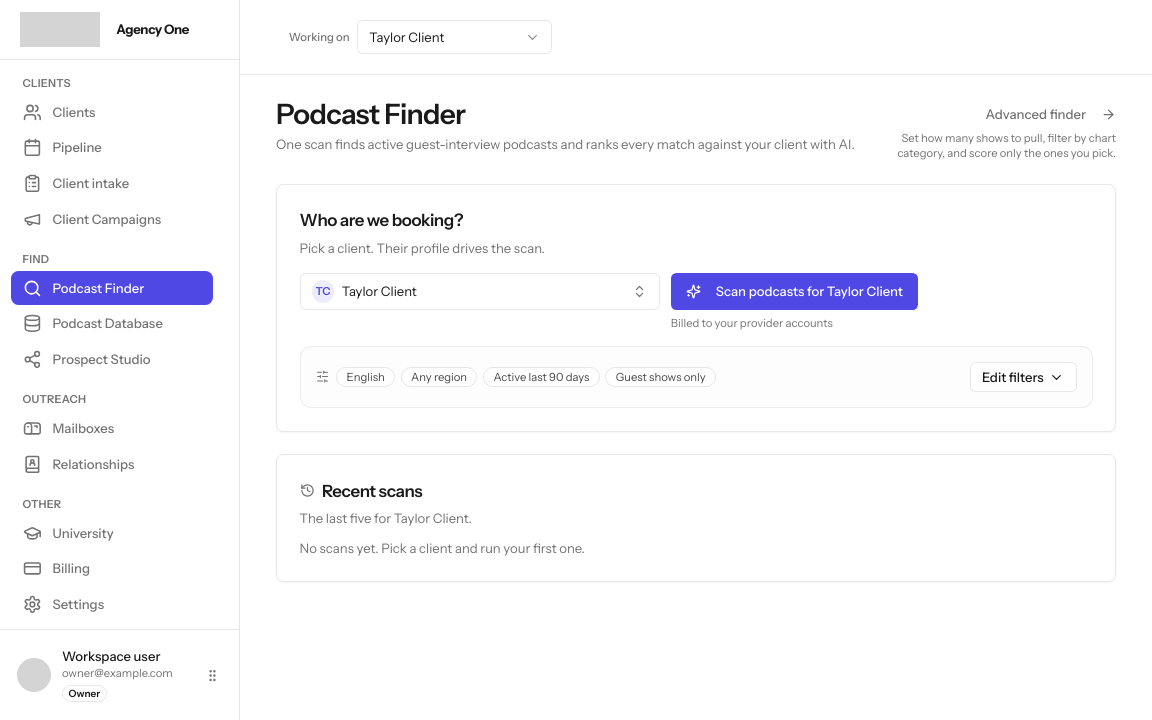
WorkspaceSmartPodcastFinder › retries a flaky index twice and then fails, instead of walking every page
Click the button "Scan podcasts for Taylor Client". click: (794, 292)
box: [671,273,918,310]
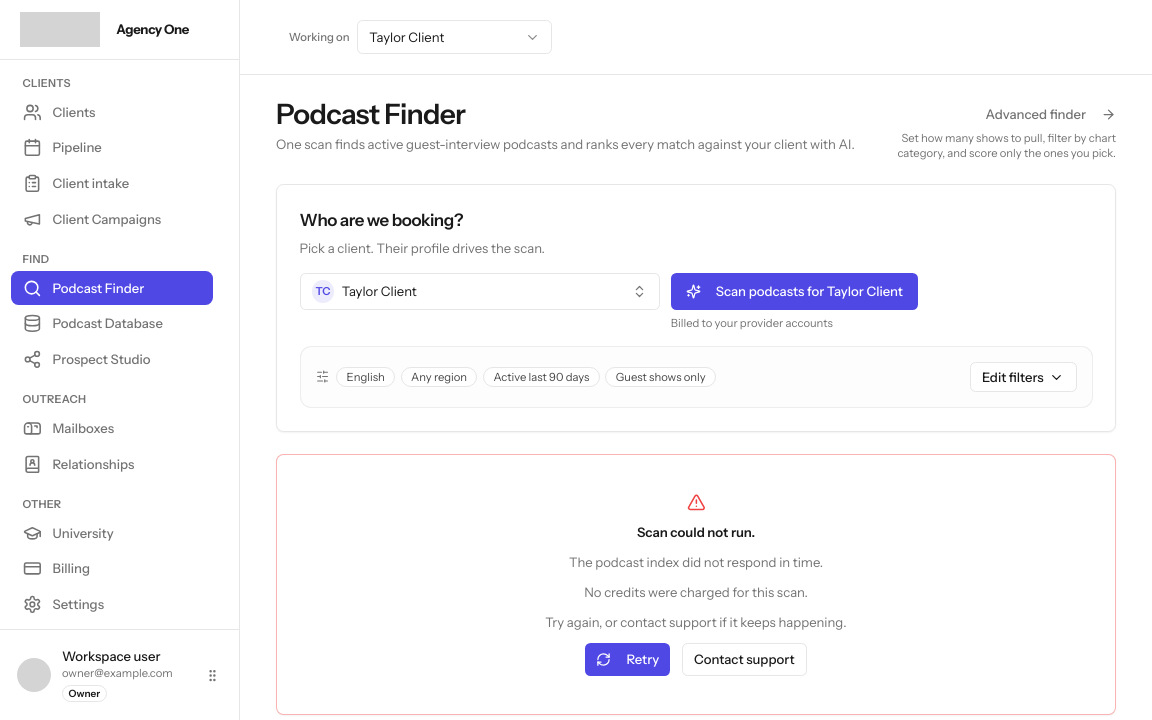
Expected: the message shows "The podcast index did not respond in time.", [569,554,823,570]
